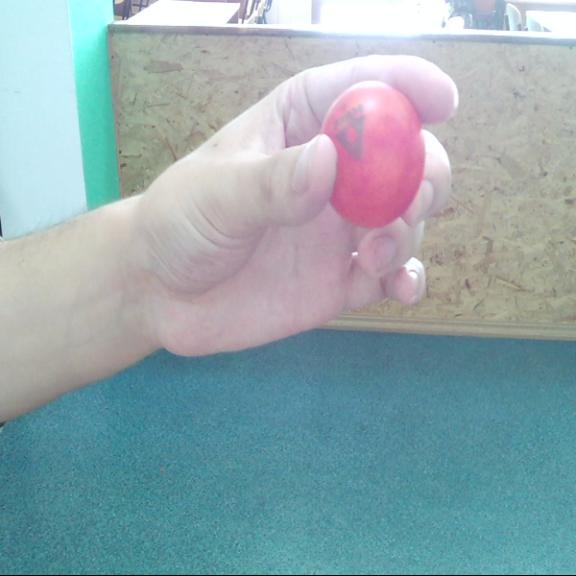ball: (320, 80, 427, 227)
